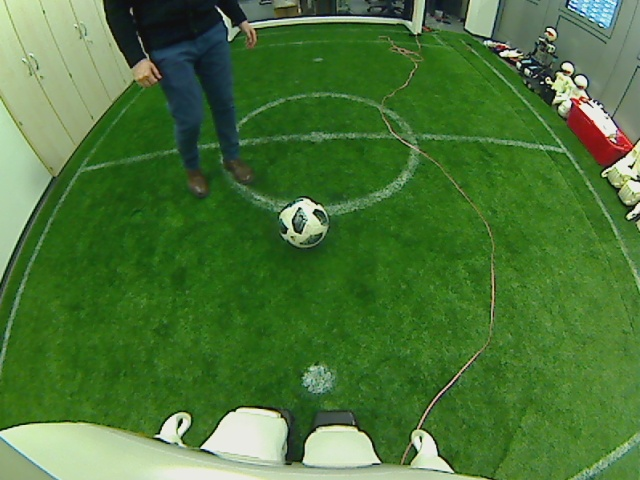ball: (279, 195, 329, 248)
